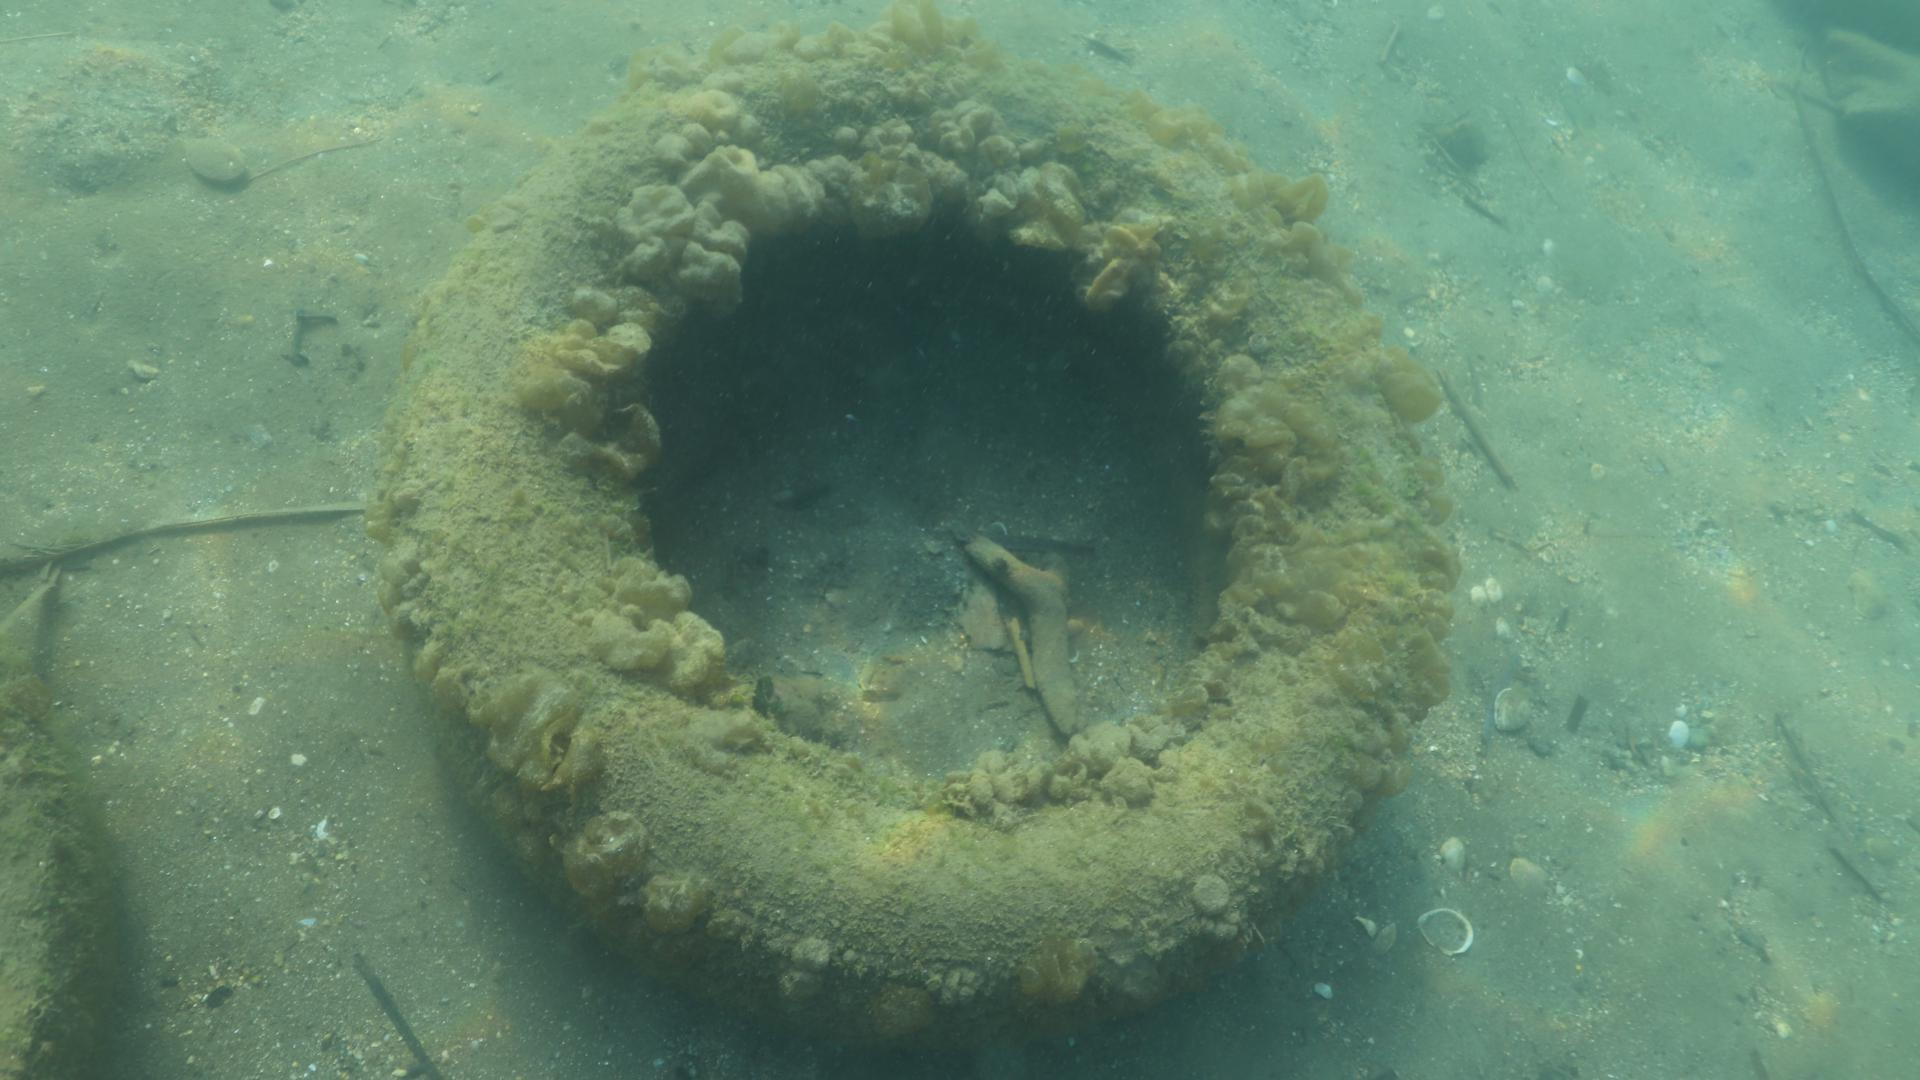tire: (409, 47, 1444, 1040)
